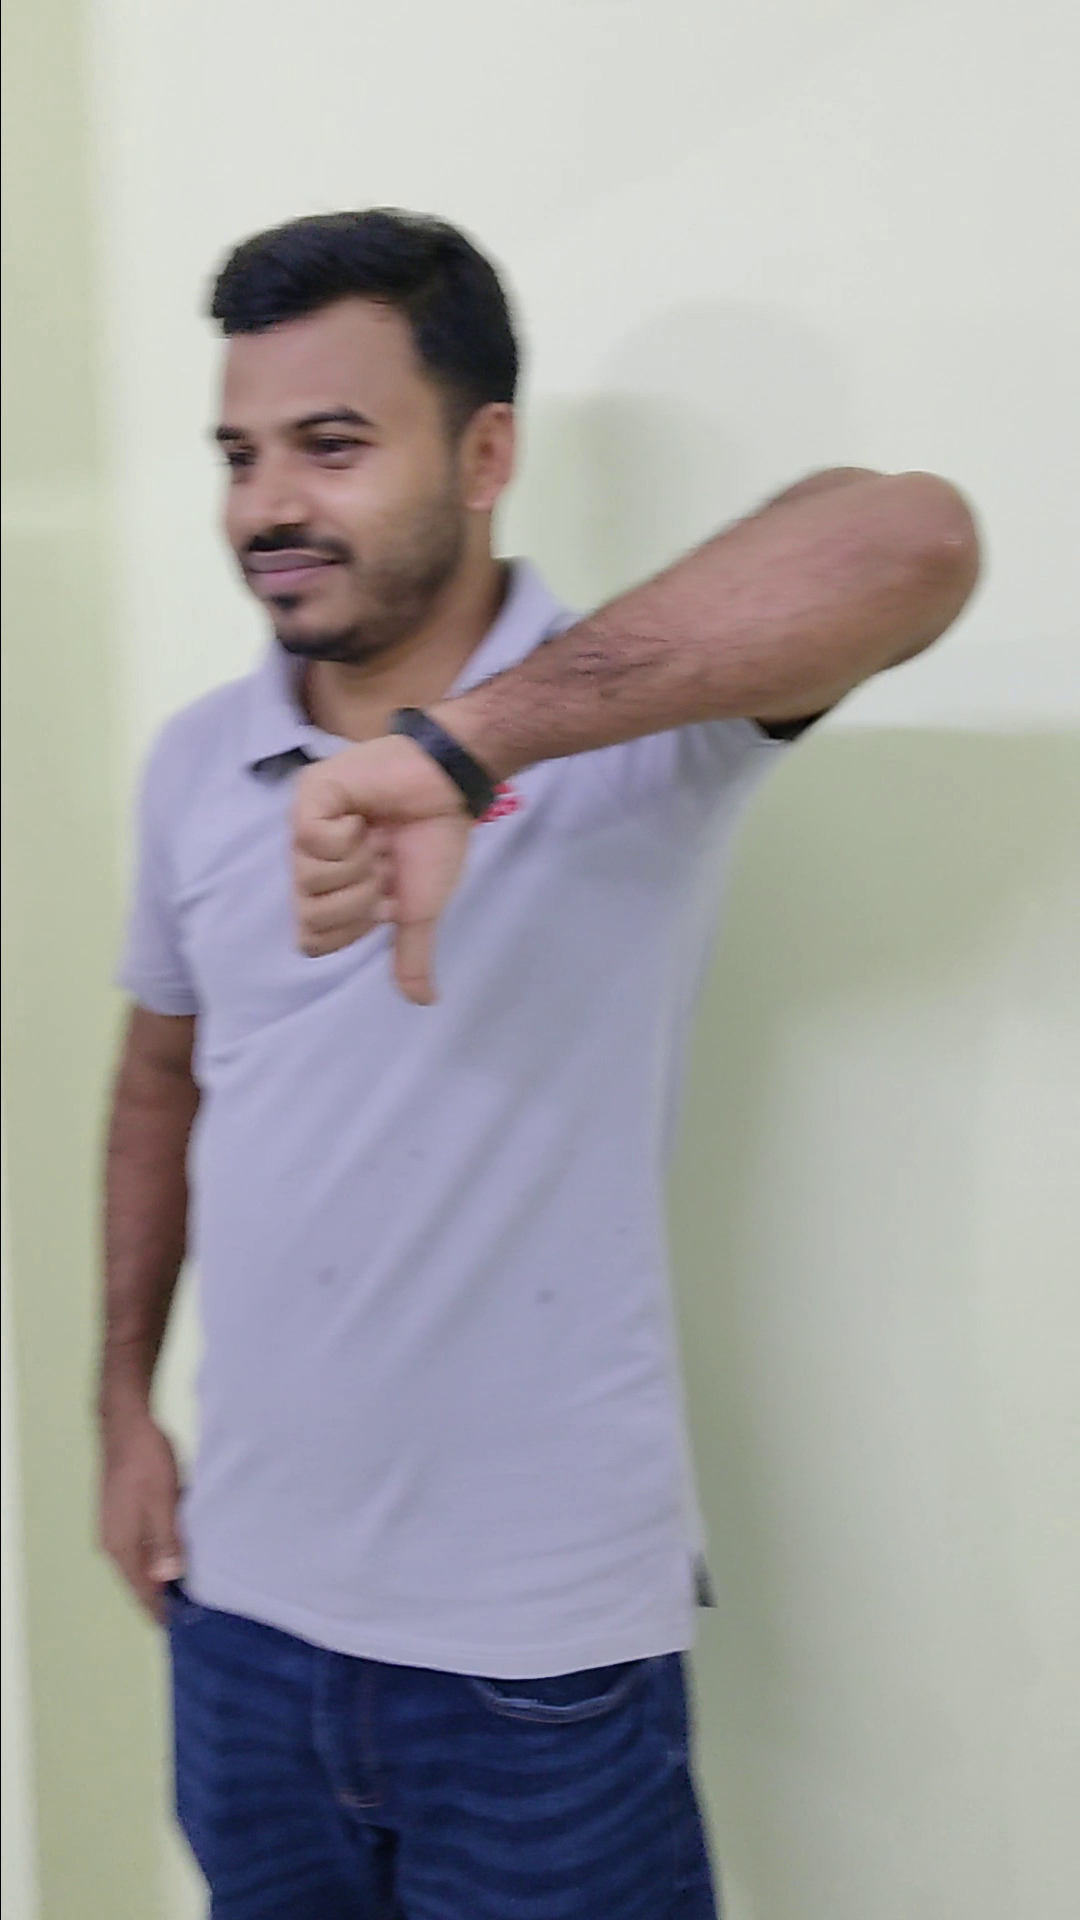Dislike: (265, 705, 495, 1030)
None: (80, 1369, 227, 1662)
